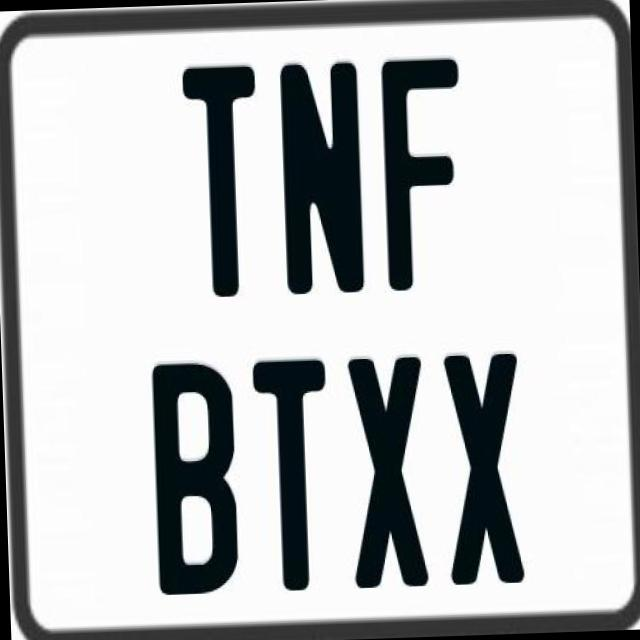B: (150, 360, 242, 593)
F: (380, 52, 470, 289)
N: (278, 58, 366, 300)
T: (250, 358, 332, 596), (179, 60, 262, 294)
X: (444, 348, 530, 580), (347, 358, 427, 592)
